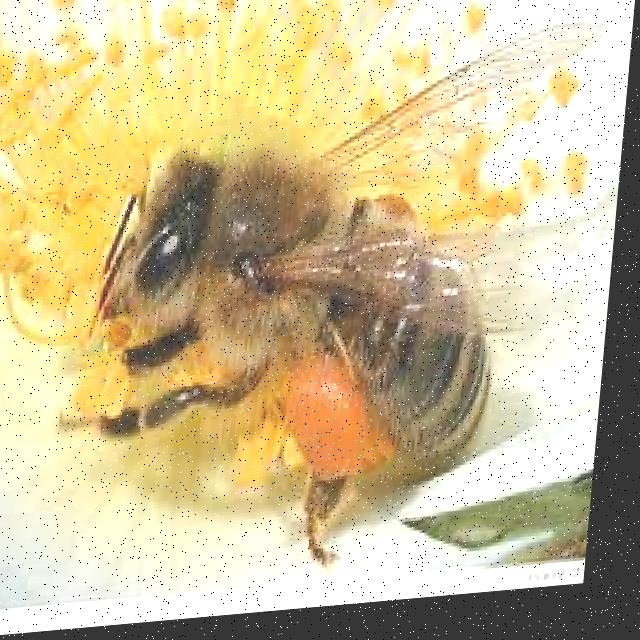Apis-mellifera-scutellata: (69, 22, 602, 589)
